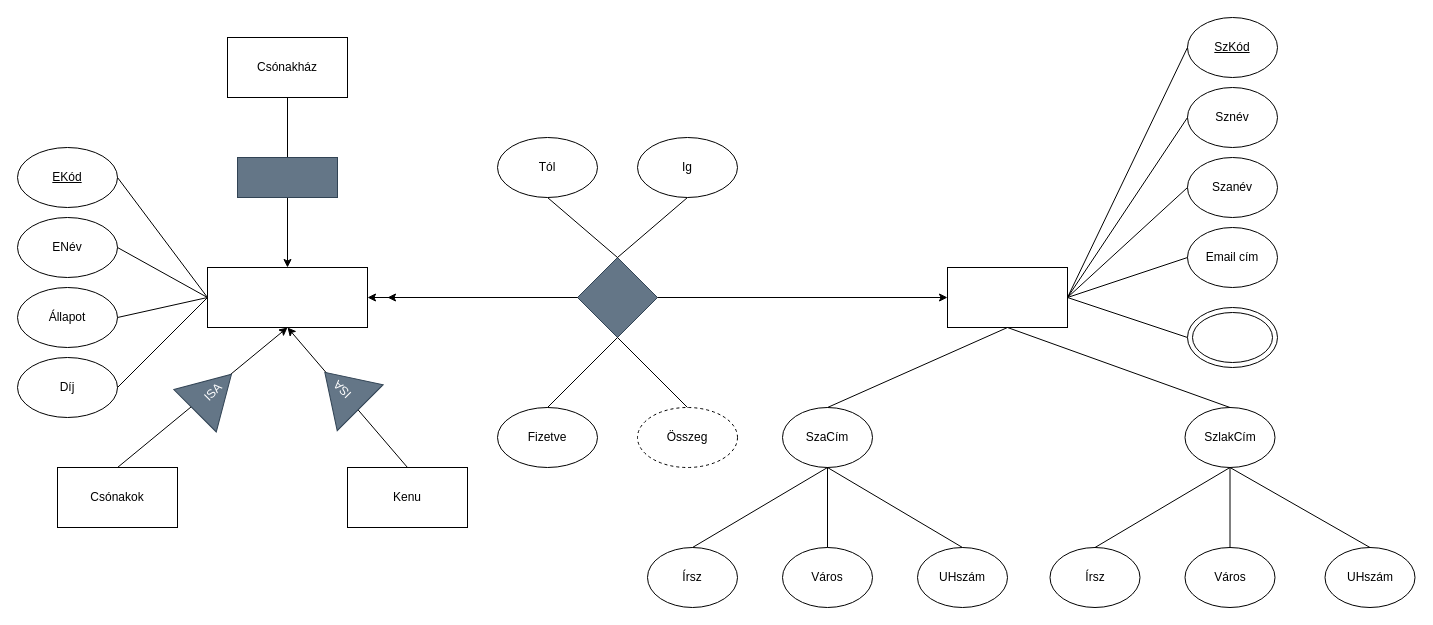
This 1433x625 diagram has some shape labels left out. Each missing label, with the centre of its shape:
"Eszköz" belongs at point 287,297.
"HAS_A" belongs at point 287,177.
"Kölcsönzés" belongs at point 617,297.
"Személy" belongs at point 1007,297.
"Tszám" belongs at point 1232,337.
